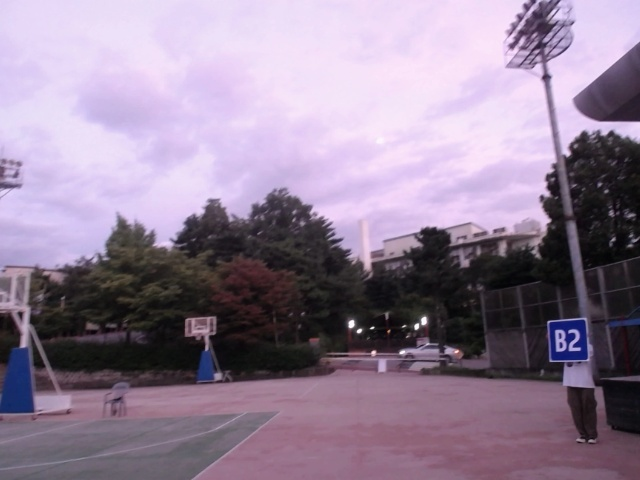delivery_b2: (546, 320, 590, 363)
